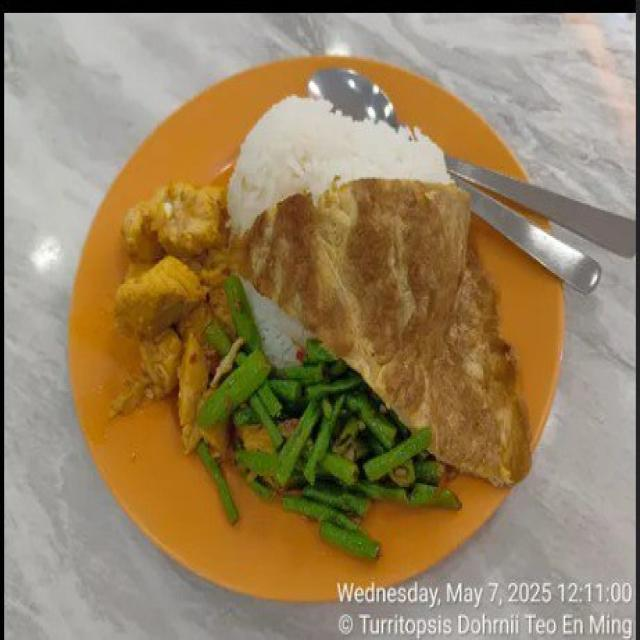Chicken: (112, 184, 235, 452)
Egg: (233, 177, 532, 483)
Green veg: (197, 279, 458, 557)
Rice: (229, 90, 453, 232), (252, 297, 308, 367)
